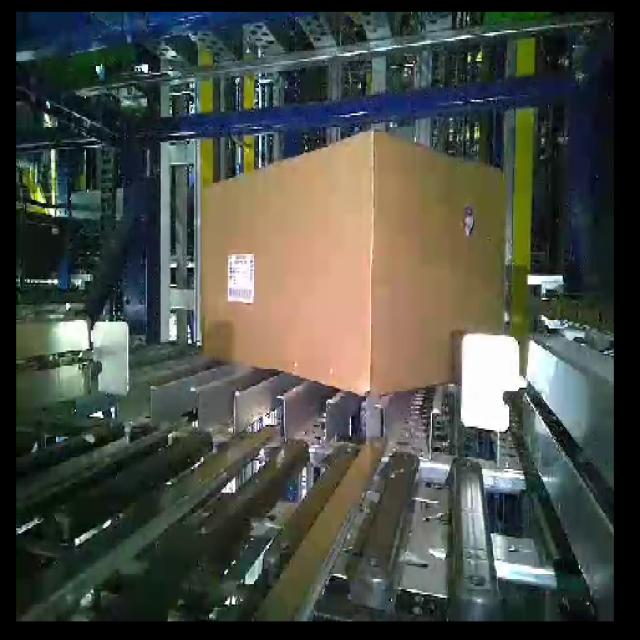box: (200, 130, 374, 398)
